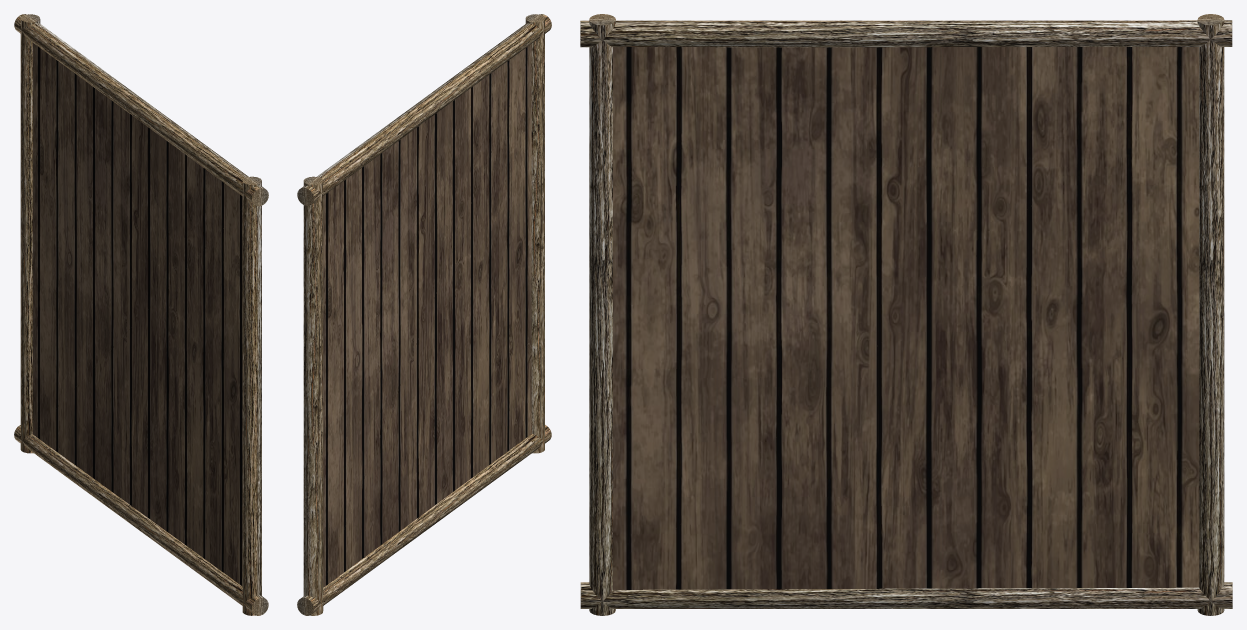
File: wooden wall.gltf
3 renders of one model, left to right at view 1: azimuth 30°, elevation 25°; view 2: azimuth 150°, elevation 25°; view 3: azimuth 270°, elevation 25°, orthographic. The views are drawn at different scales.
Visible parts, largest first — view 1: Küp, Silindir (×4); view 2: Küp, Silindir (×4); view 3: Küp, Silindir (×4).
Part boxes in pixels (x1=…): Küp: x1=32, y1=43, x2=242, y2=586; Silindir (×4): x1=14, y1=14, x2=268, y2=615; Küp: x1=323, y1=44, x2=531, y2=587; Silindir (×4): x1=297, y1=14, x2=551, y2=615; Küp: x1=613, y1=47, x2=1199, y2=589; Silindir (×4): x1=580, y1=14, x2=1232, y2=615.
Bounding box in the file's own units: 0.0866 × 2.1 × 2.1.
Materials: 5 (5 with a texture image).
